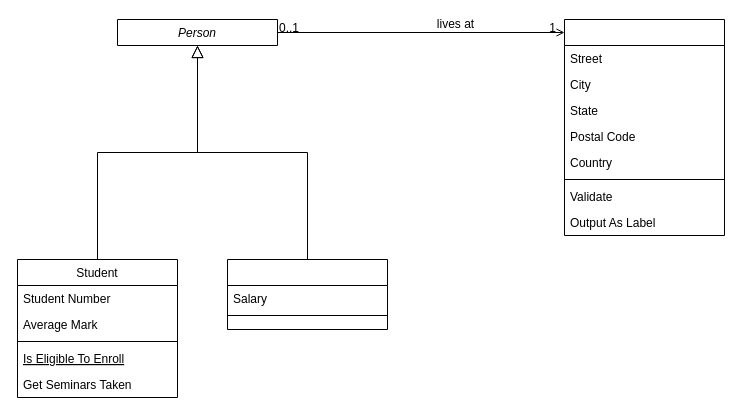
Some shapes in this 742 by 418 pixel diagram are drawn without their labels. Each missing label, with the box of its shape:
Address: (564, 18, 724, 236)
Professor: (226, 258, 388, 330)
